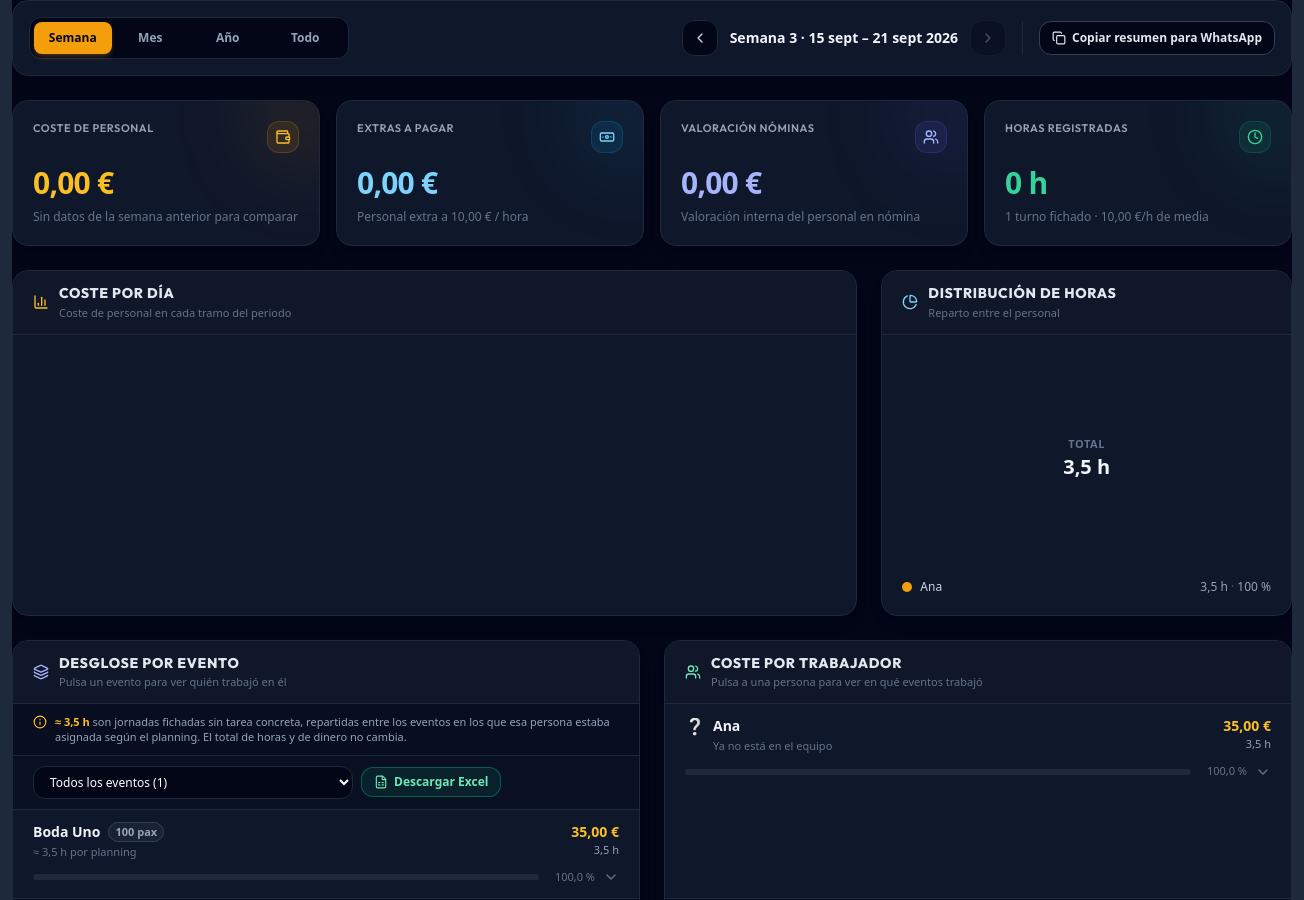
FinancialSummaryTab — desglose y comparación › el detalle de una persona lista los eventos en los que trabajó
The width and height of the screenshot is (1304, 900).
Click the button "❔ Ana Ya no está en el equipo 35,00 € 3,5 h 100,0 %" at (773, 746), box [665,704,1291,792]
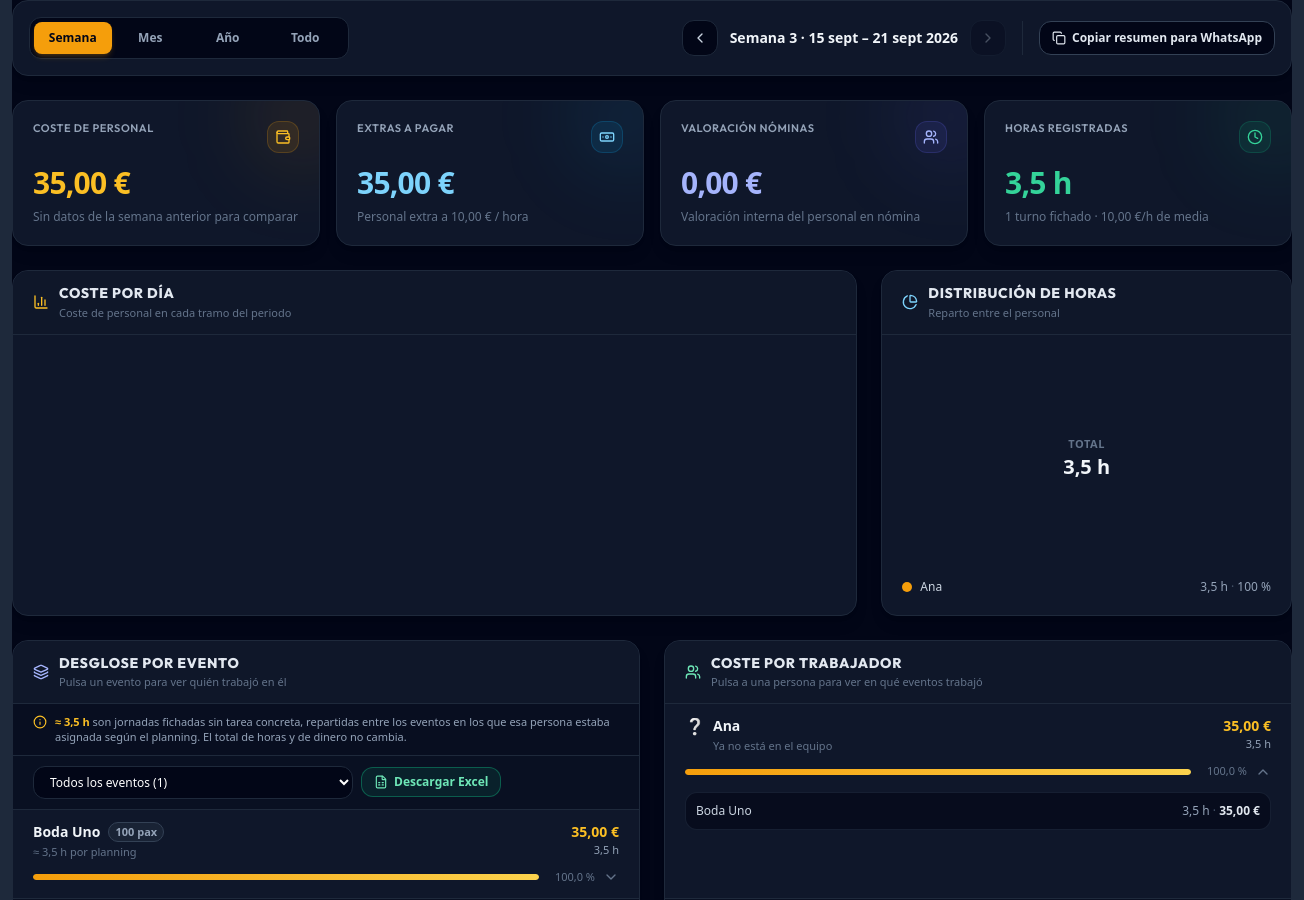
Result: the 1st text "Boda Uno" is shown at [696,803,752,819]
